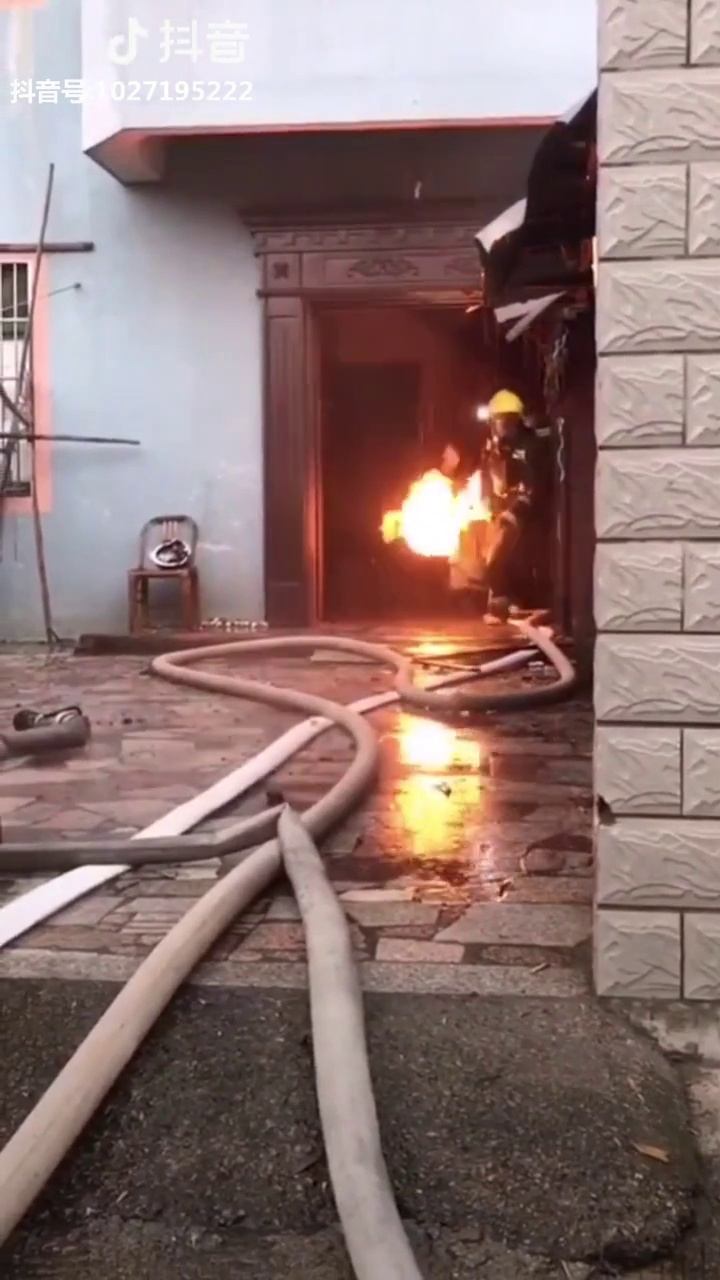fire: (376, 449, 486, 567)
